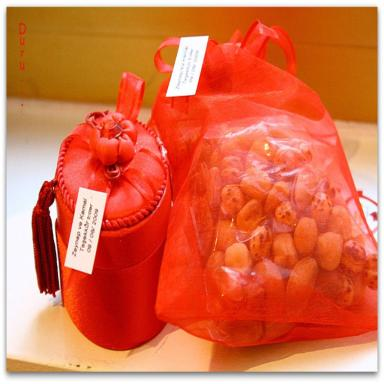plasticbag: (145, 18, 377, 348)
